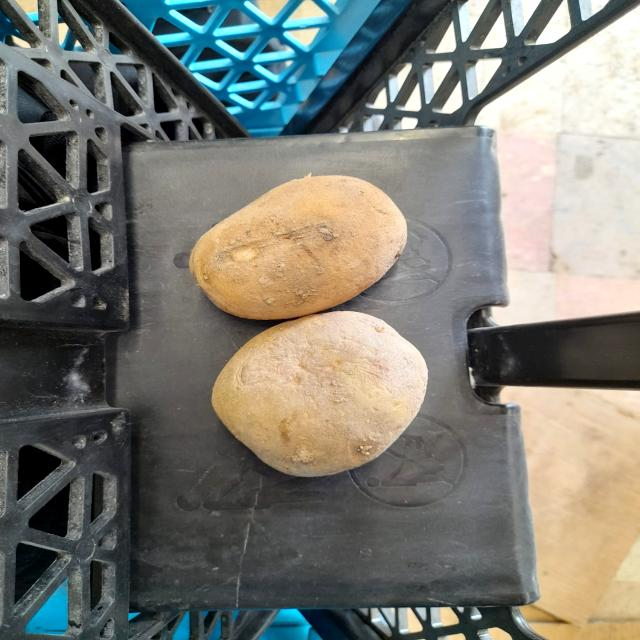potato: (211, 300, 445, 484), (179, 166, 424, 320)
